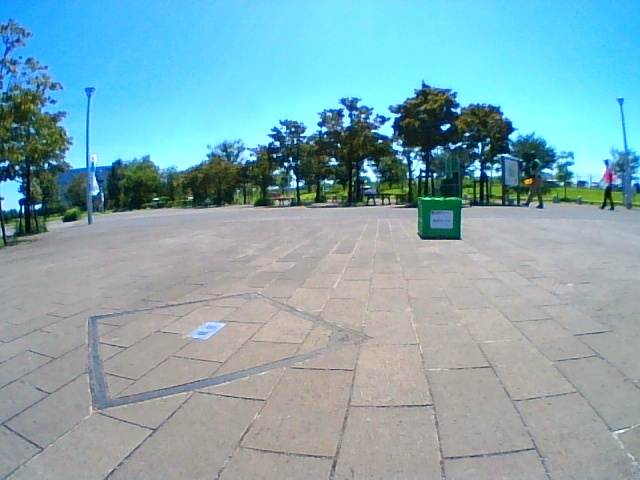green_box: (419, 196, 460, 239)
